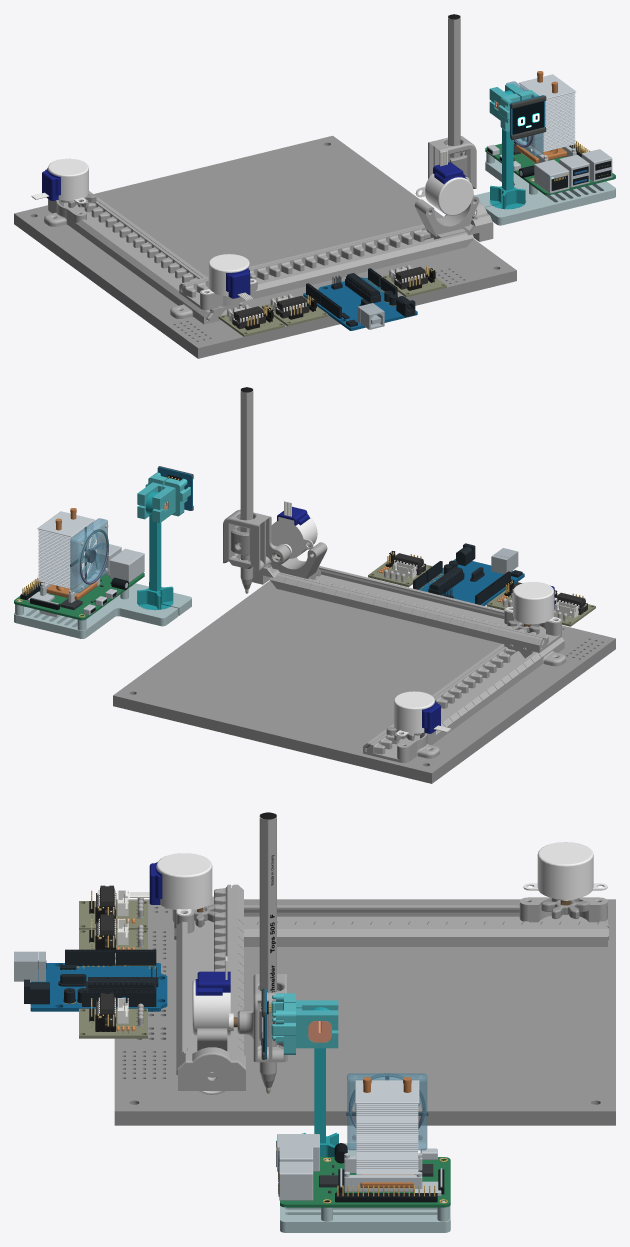
The model's file is ARIA_CNC_Pantalla_Raspberry_Enfriador.glb.
The picture shows the model from 3 angles, top to bottom: view 1: azimuth 30°, elevation 25°; view 2: azimuth 150°, elevation 25°; view 3: azimuth 270°, elevation 25°; orthographic projection. The views are drawn at different scales.
Visible parts, largest first — view 1: part_000, part_618, part_616, part_619, stand_P1, part_617, uno_components, part_021, uno_pcb, part_010, part_016, part_005 (+18 smaller); view 2: part_000, part_618, part_616, stand_P1, part_612, uno_components, part_021, part_617, part_619, part_005, fan_Fan_40mm_frame, uno_pcb (+10 smaller); view 3: part_000, part_616, part_618, uno_components, stand_P1, part_021, part_016, part_005, part_054, uno_pcb, raspberry_Pi_PCB_85x56_0, part_619 (+18 smaller).
Boxes of the visible parts, <box> form: part_000: <box>14,135,516,358</box>; part_618: <box>179,224,473,310</box>; part_616: <box>44,191,244,324</box>; part_619: <box>182,194,479,297</box>; stand_P1: <box>475,152,615,225</box>; part_617: <box>78,200,239,320</box>; uno_components: <box>306,268,415,327</box>; part_021: <box>448,14,460,157</box>; uno_pcb: <box>303,277,417,330</box>; part_010: <box>415,173,473,215</box>; part_016: <box>48,158,88,203</box>; part_005: <box>202,254,256,296</box>; part_000: <box>113,580,615,783</box>; part_618: <box>269,566,561,652</box>; part_616: <box>363,637,565,762</box>; stand_P1: <box>14,583,191,638</box>; part_612: <box>223,509,290,571</box>; uno_components: <box>413,543,522,604</box>; part_021: <box>240,387,253,584</box>; part_617: <box>366,644,533,754</box>; part_619: <box>271,542,548,648</box>; part_005: <box>506,582,560,624</box>; fan_Fan_40mm_frame: <box>70,518,107,592</box>; uno_pcb: <box>419,559,524,605</box>; part_000: <box>114,899,615,1125</box>; part_616: <box>244,897,607,946</box>; part_618: <box>172,884,243,1074</box>; uno_components: <box>24,949,158,1006</box>; stand_P1: <box>280,1143,450,1232</box>; part_021: <box>259,812,276,1081</box>; part_016: <box>523,842,607,900</box>; part_005: <box>156,853,212,915</box>; part_054: <box>178,1047,245,1090</box>; uno_pcb: <box>30,963,167,1011</box>; raspberry_Pi_PCB_85x56_0: <box>280,1157,450,1207</box>; part_619: <box>187,884,231,1052</box>.
Bounding box in the file's own units: 376 × 169 × 300.
